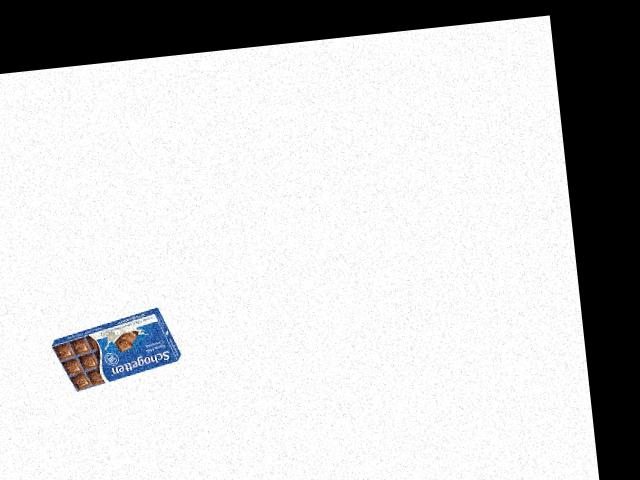chocolate: (48, 315, 186, 394)
